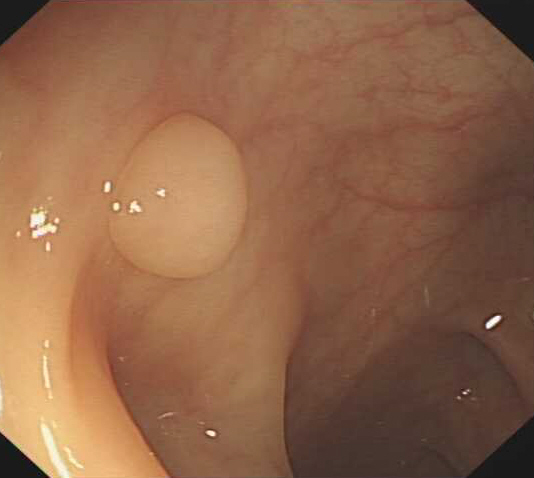others: (105, 108, 250, 282)
